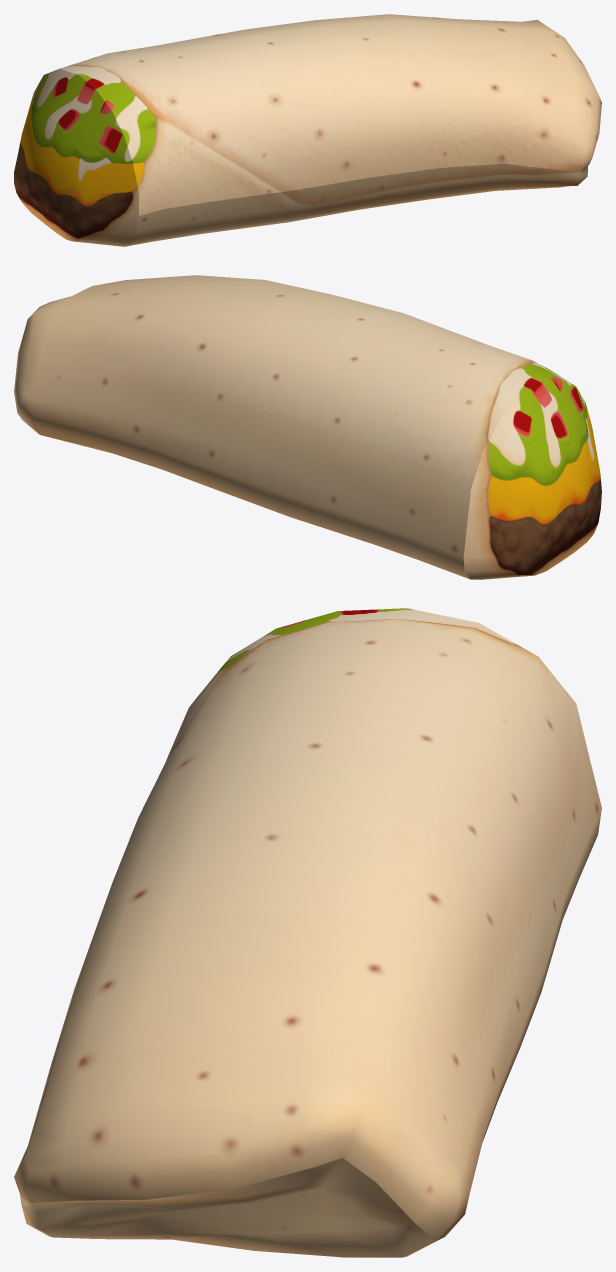
File: Burrito.fbx
The picture shows the model from 3 angles, top to bottom: view 1: azimuth 30°, elevation 25°; view 2: azimuth 150°, elevation 25°; view 3: azimuth 270°, elevation 25°; orthographic projection. The views are drawn at different scales.
Parts seen in each view (by area): view 1: Burrito_1; view 2: Burrito_1; view 3: Burrito_1.
Boxes of the visible parts, x1=… form: Burrito_1: x1=14, y1=14, x2=601, y2=246; Burrito_1: x1=14, y1=275, x2=601, y2=579; Burrito_1: x1=14, y1=608, x2=601, y2=1257.
Bounding box in the file's own units: 64.53 × 18.99 × 34.97.
